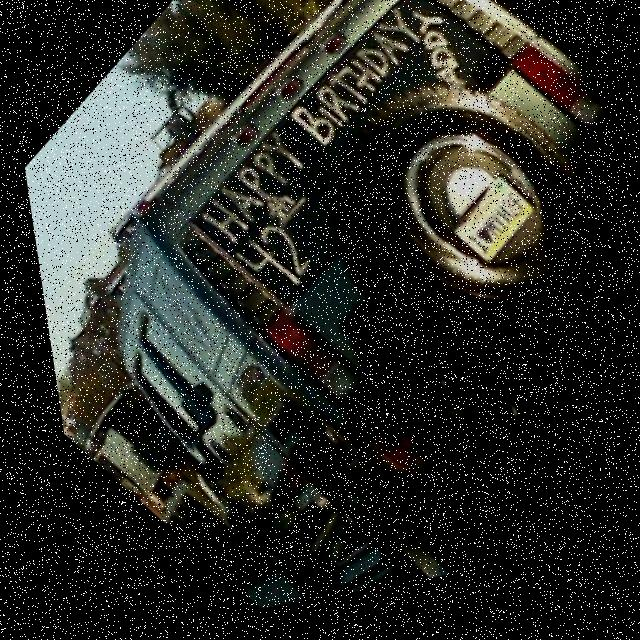license_plate: (437, 189, 534, 286)
